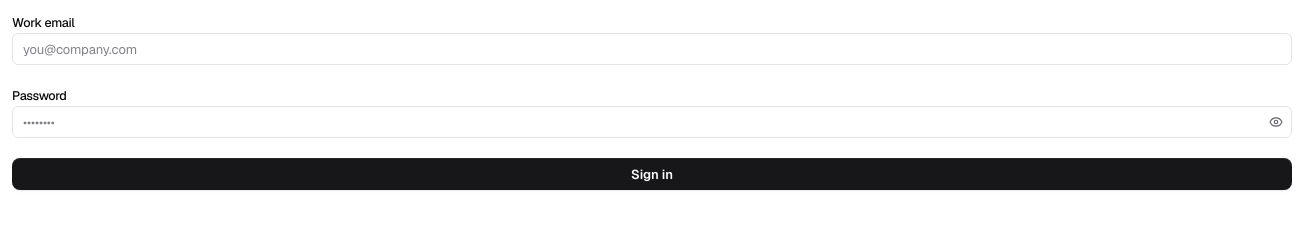
LoginForm › validates password length client-side
Type "ada@payops.test" into the field labelled "Work email" at (652, 49), box 12,33 -> 1292,65
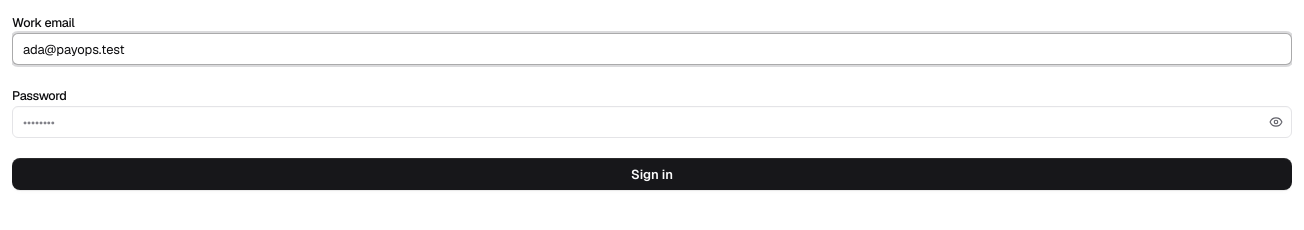
Type "short" into the password field labelled "Password" at (652, 122), box 12,106 -> 1292,138
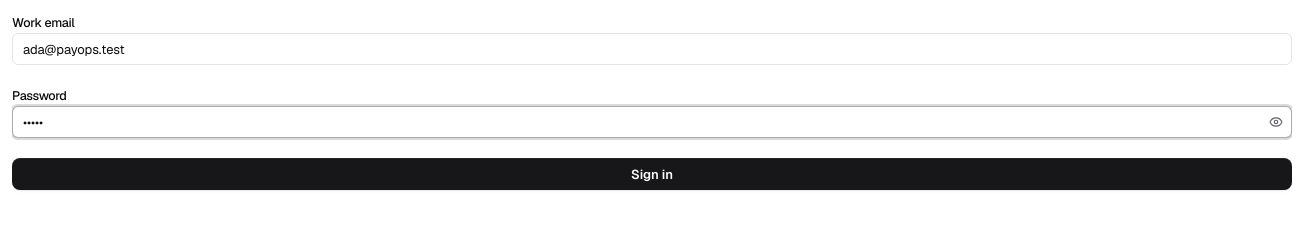
Click the button "Sign in" at (652, 174), box 12,158 -> 1292,190
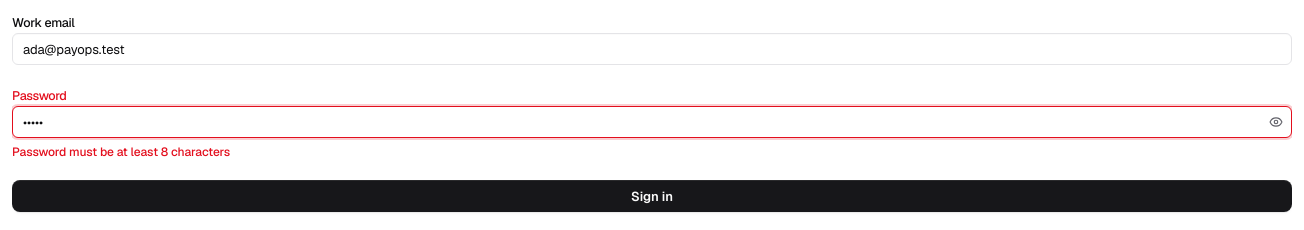
Expected: the text "Password must be at least 8 characters" is shown, 12,144 -> 230,160
